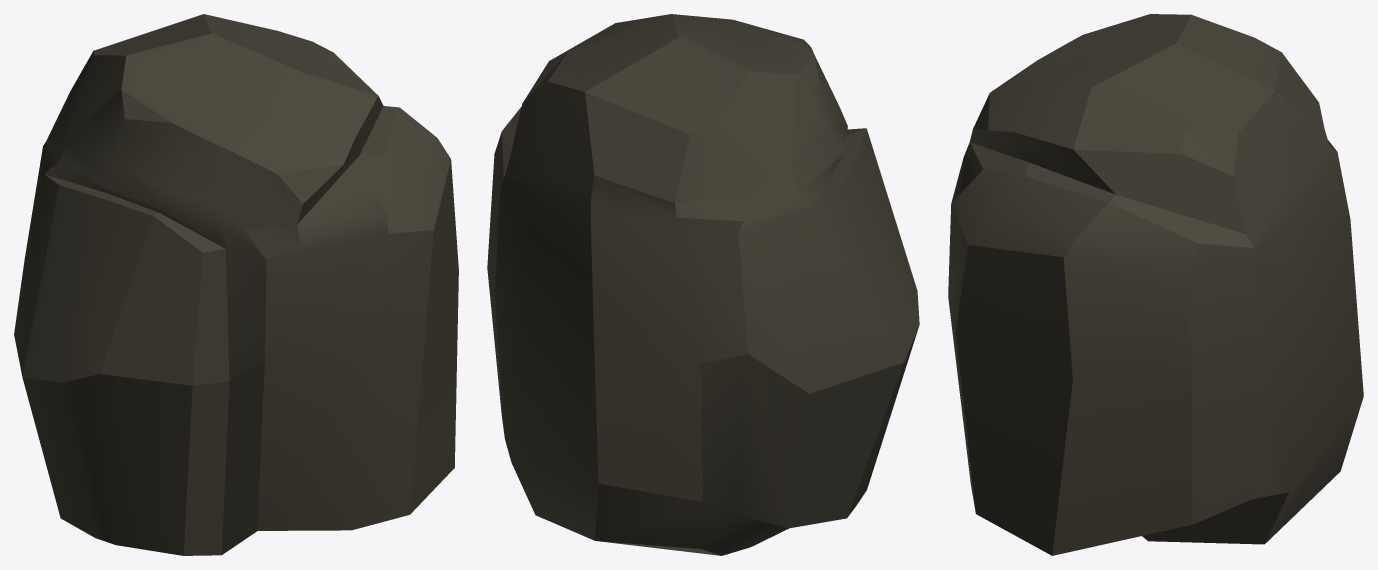
The model's file is Rock_3.obj.
The picture shows the model from 3 angles, left to right: view 1: azimuth 30°, elevation 25°; view 2: azimuth 150°, elevation 25°; view 3: azimuth 270°, elevation 25°; orthographic projection. The views are drawn at different scales.
Parts seen in each view (by area): view 1: Rock_3_Cube.024; view 2: Rock_3_Cube.024; view 3: Rock_3_Cube.024.
Part boxes in pixels (x1=…): Rock_3_Cube.024: x1=14, y1=14, x2=458, y2=555; Rock_3_Cube.024: x1=487, y1=14, x2=919, y2=555; Rock_3_Cube.024: x1=948, y1=14, x2=1363, y2=555.
Bounding box in the file's own units: 3.3 × 3.83 × 3.01.
1 material, 1 textured.
